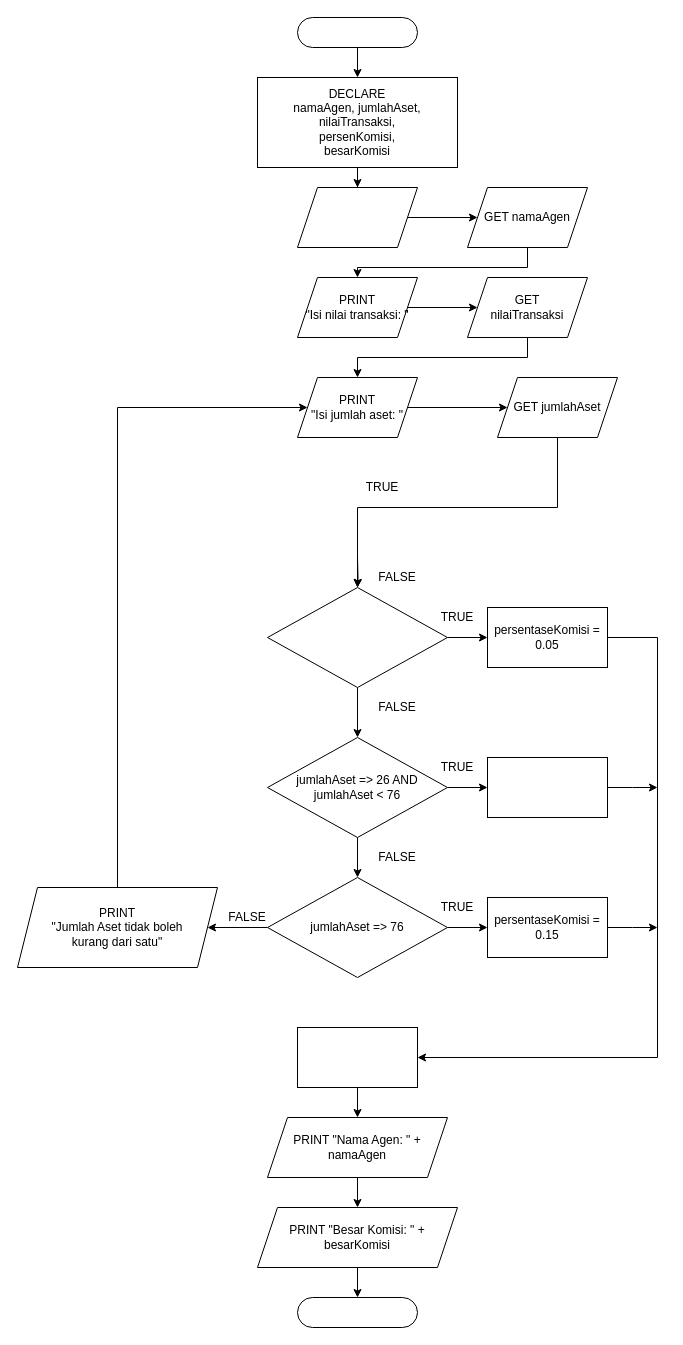
Image size: 683x1345. Some labels were removed from this diagram. The centre of each missing label's shape, as x and y in pixels:
besarKomisi = nilaiTransaksi * persentaseKomisi: point 357,1057
END: point 357,1312
jumlahAset => 1 AND jumlahAset < 26: point 357,637
persentaseKomisi = 0.1: point 547,787
PRINT "Isi nama Agen: ": point 357,217
START: point 357,32
